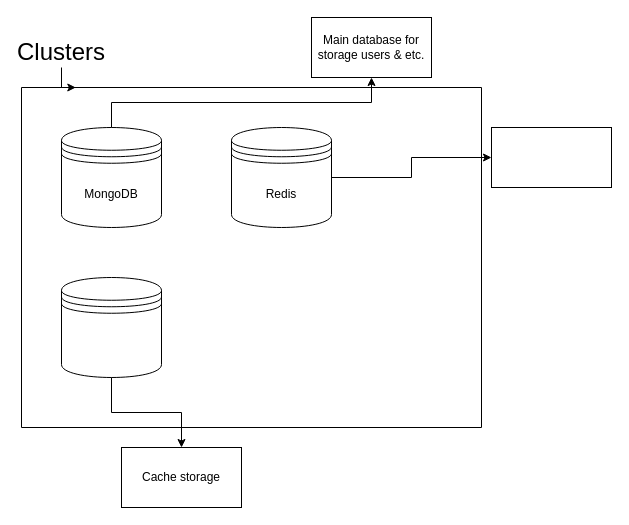
Some shapes in this 629 by 525 pixel diagram are drawn without their labels. Each missing label, with the centre of its shape:
"Memcached" belongs at (x=111, y=327).
"Session storage" belongs at (x=551, y=157).
